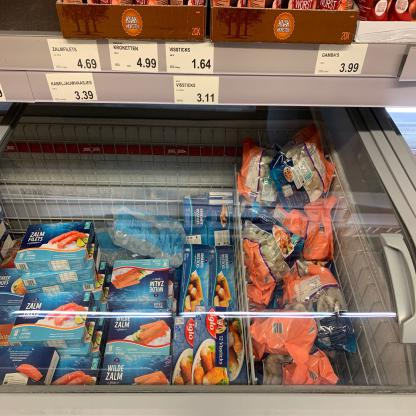prtg: (48, 40, 102, 73), (315, 45, 371, 76), (110, 40, 160, 74), (166, 43, 215, 76), (46, 73, 99, 103), (174, 77, 220, 105)
